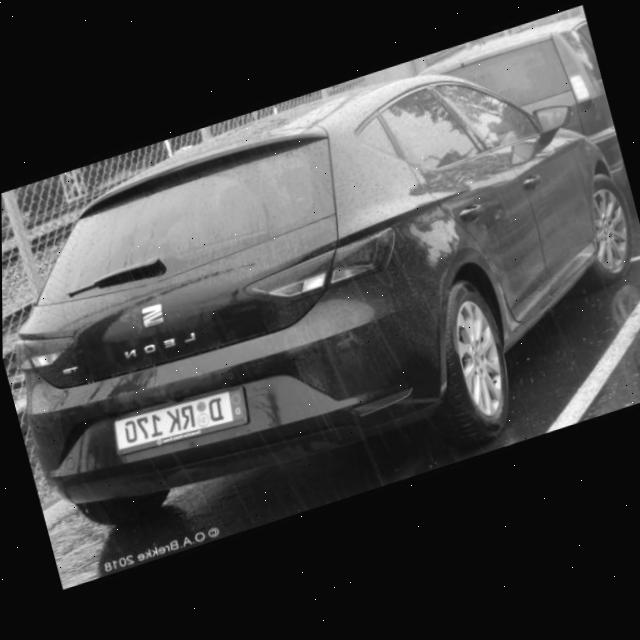license-plates: (114, 388, 246, 455)
